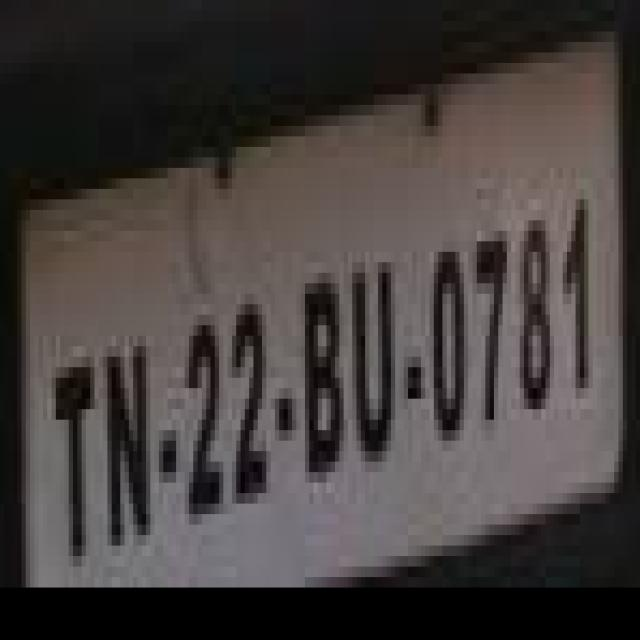license_plate: (8, 105, 640, 577)
